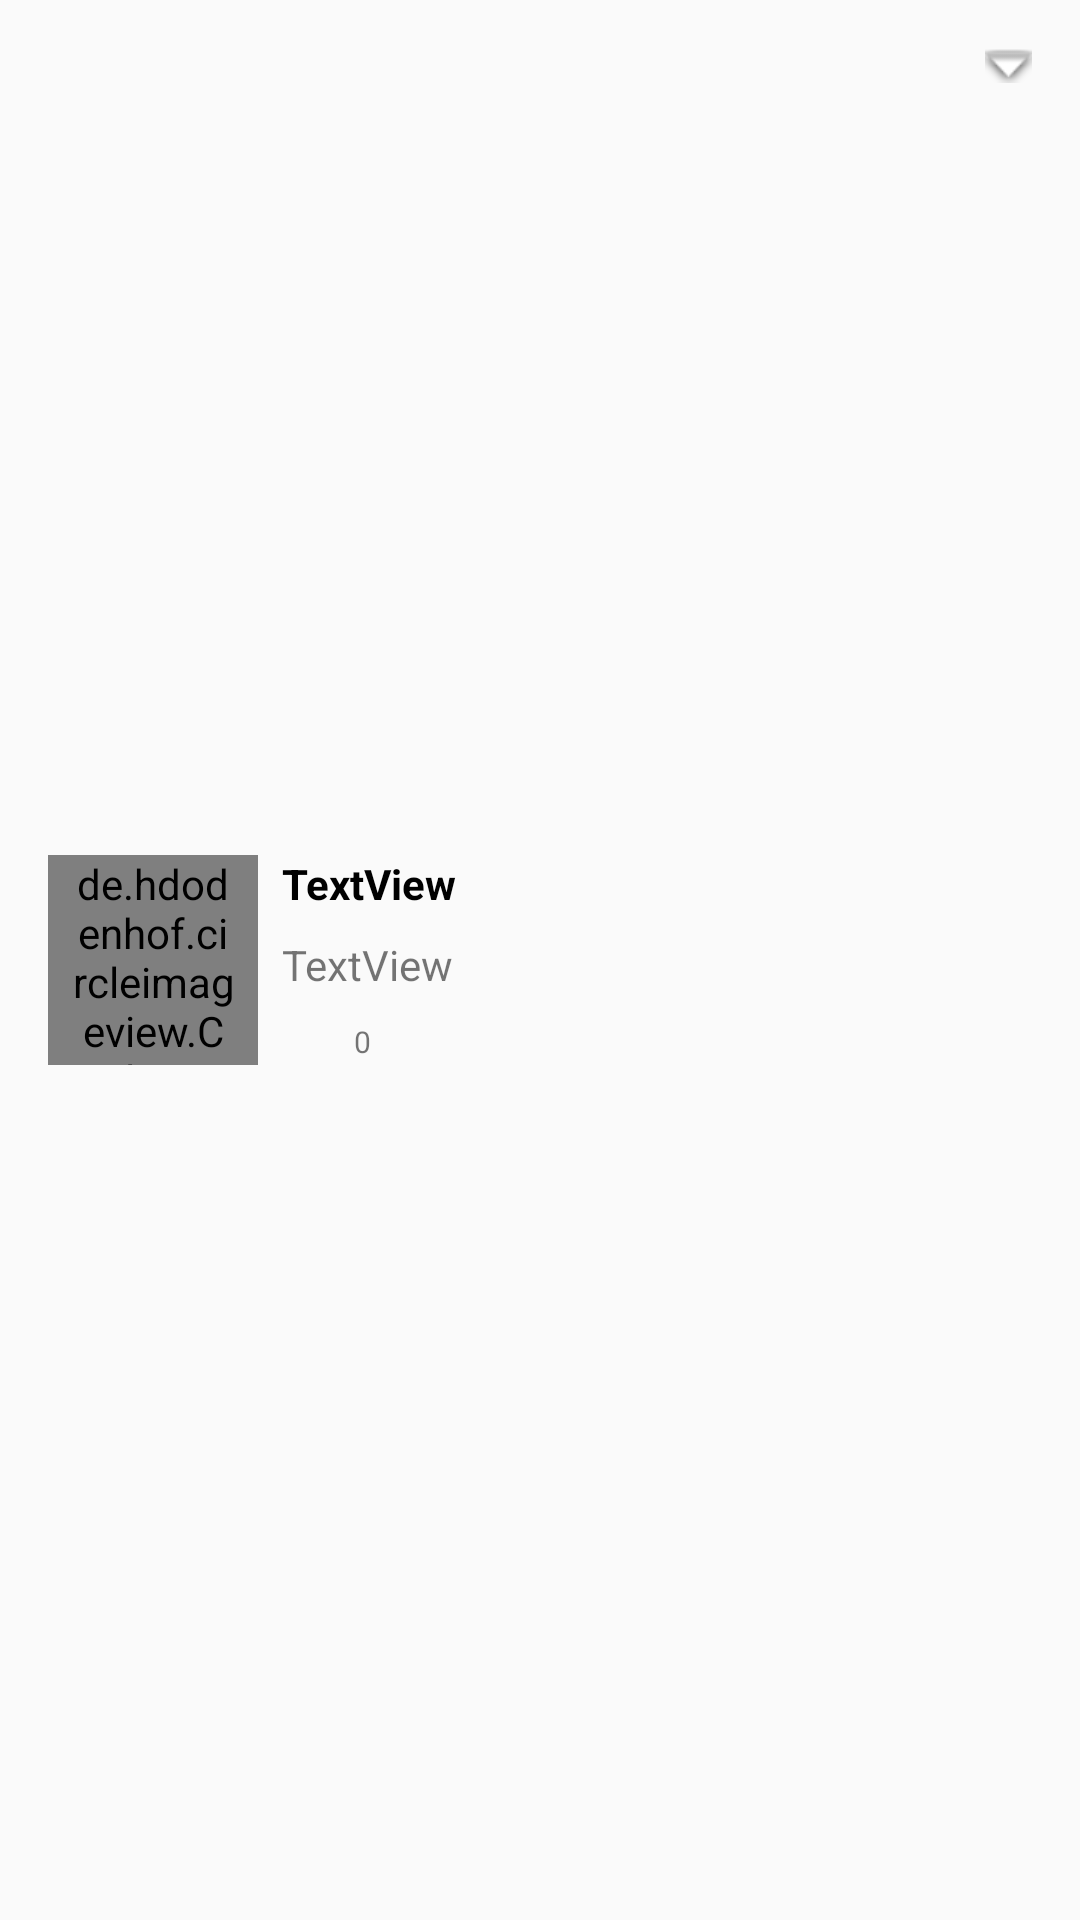

Screen size 1080 x 1920. Icon name, then its box in pixels as (x1, y1, x2, y2):
arrow down float: (985, 50, 1032, 82)
